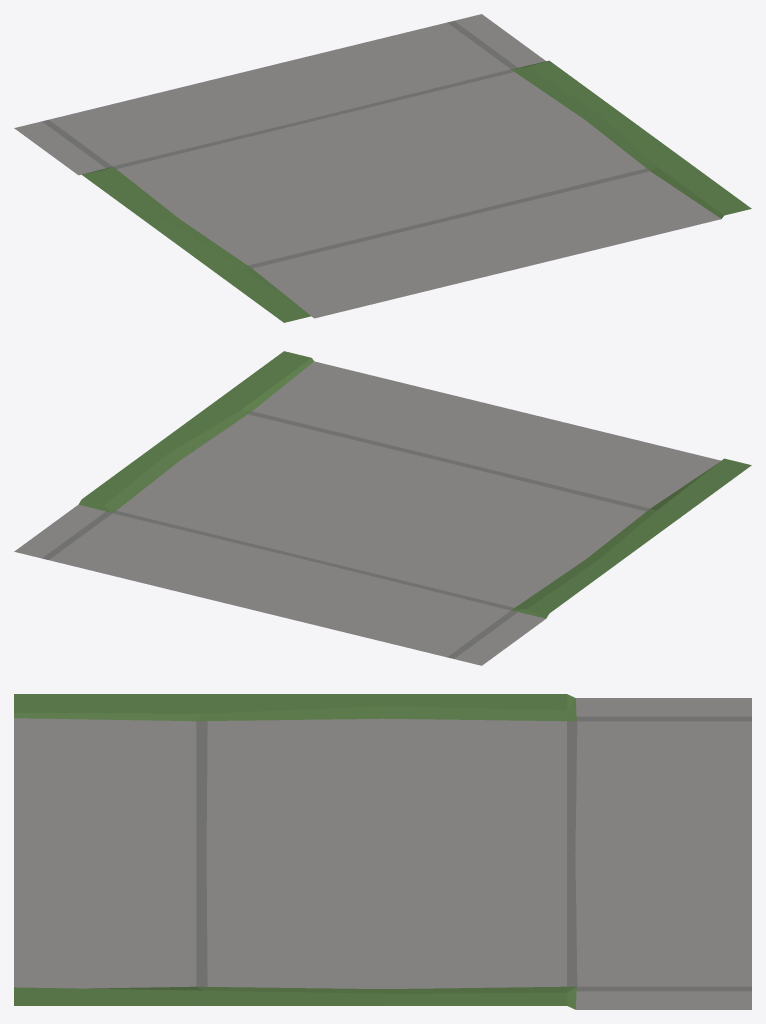
File: SM_Env_Driveway_Wide_PathBoth_01.fbx
3 renders of one model, top to bottom at view 1: azimuth 30°, elevation 25°; view 2: azimuth 150°, elevation 25°; view 3: azimuth 270°, elevation 25°, orthographic. The views are drawn at different scales.
Parts seen in each view (by area): view 1: SM_Env_Driveway_Wide_PathBoth_01; view 2: SM_Env_Driveway_Wide_PathBoth_01; view 3: SM_Env_Driveway_Wide_PathBoth_01.
Boxes of the visible parts, bbox=[...] form: SM_Env_Driveway_Wide_PathBoth_01: bbox=[14, 14, 751, 322]; SM_Env_Driveway_Wide_PathBoth_01: bbox=[14, 351, 751, 665]; SM_Env_Driveway_Wide_PathBoth_01: bbox=[14, 694, 751, 1009].
Bounding box in the file's own units: 500 × 2.98 × 500.
